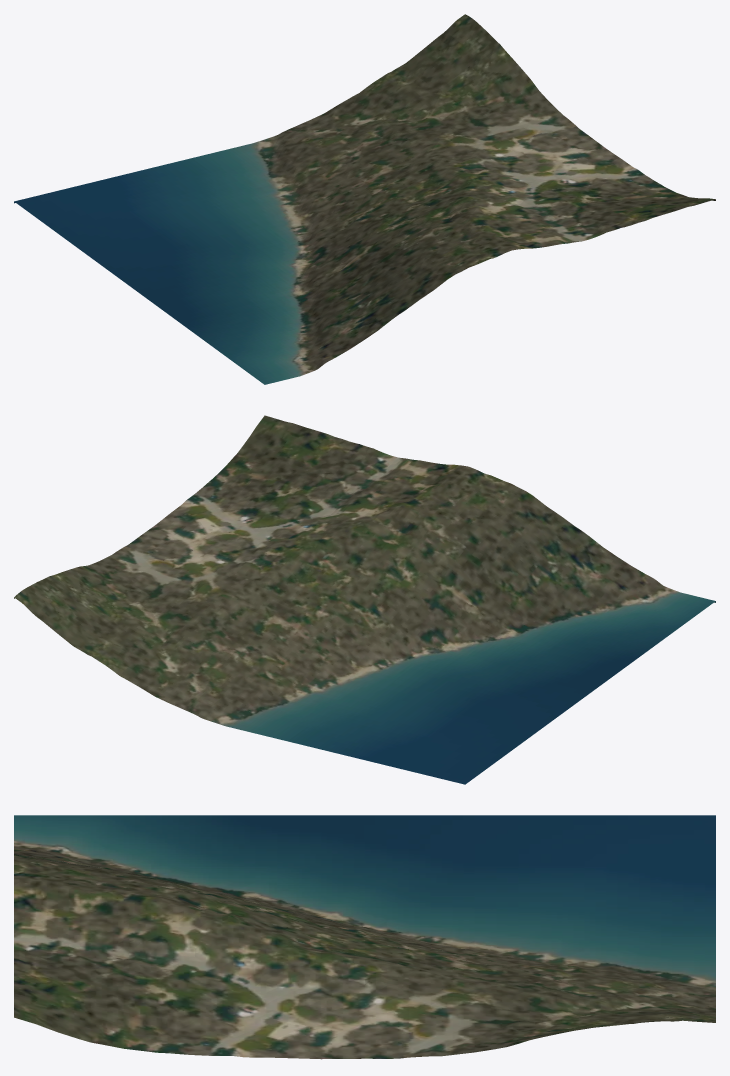
3 views of the same model, one above another, from view 1: azimuth 30°, elevation 25°; view 2: azimuth 150°, elevation 25°; view 3: azimuth 270°, elevation 25° (orthographic). The views are drawn at different scales.
Size of the model in its own units: 250 by 42.39 by 241.
1 material, 1 textured.
